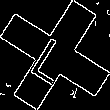L_NE: (29, 26, 81, 84)
